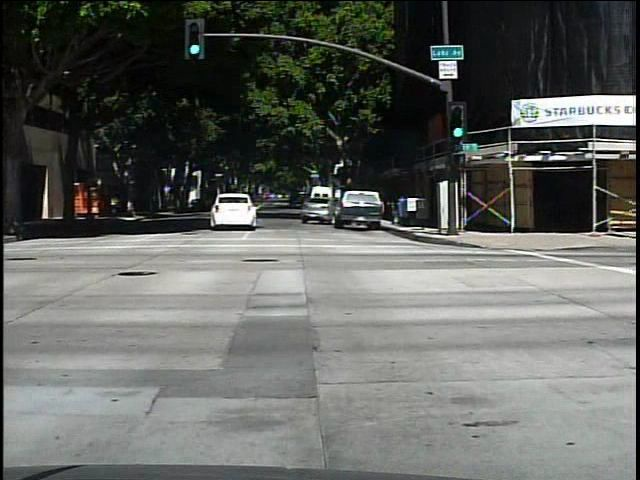person: (105, 187, 121, 221)
